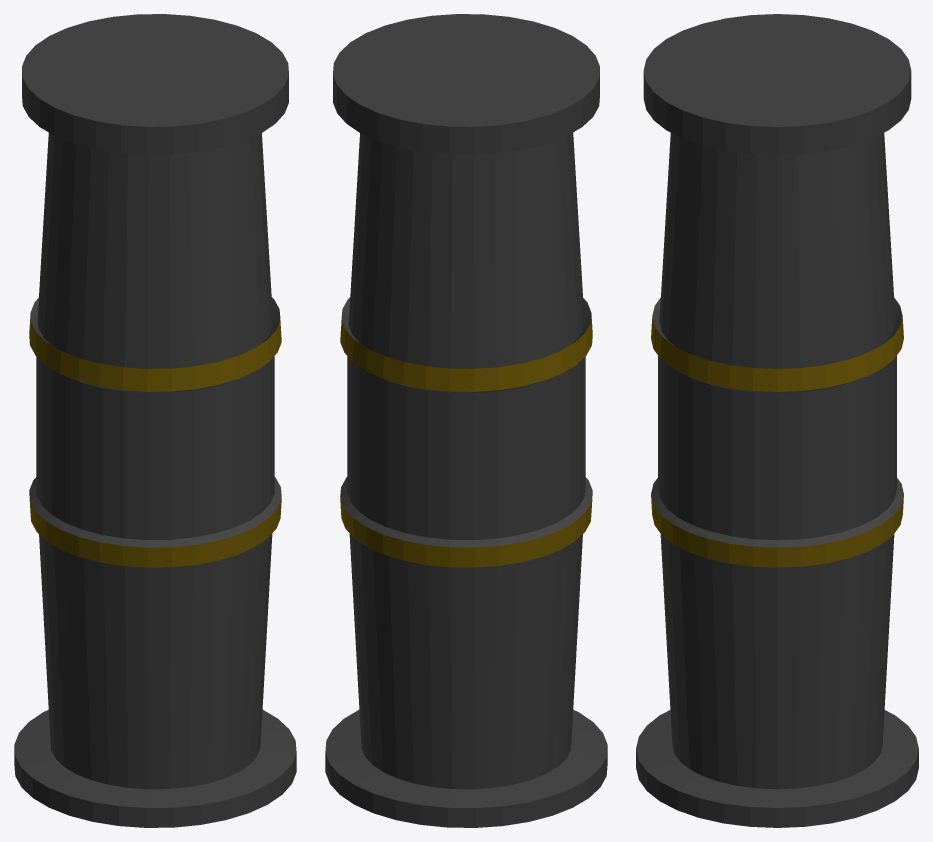
File: Pole.fbx
The picture shows the model from 3 angles, left to right: view 1: azimuth 30°, elevation 25°; view 2: azimuth 150°, elevation 25°; view 3: azimuth 270°, elevation 25°; orthographic projection.
Parts seen in each view (by area): view 1: Cylinder; view 2: Cylinder; view 3: Cylinder.
Part boxes in pixels (left/top/right/bottom): Cylinder: left=14, top=14, right=296, bottom=827; Cylinder: left=325, top=14, right=607, bottom=827; Cylinder: left=636, top=14, right=918, bottom=827.
Bounding box in the file's own units: 269 × 732 × 269.
